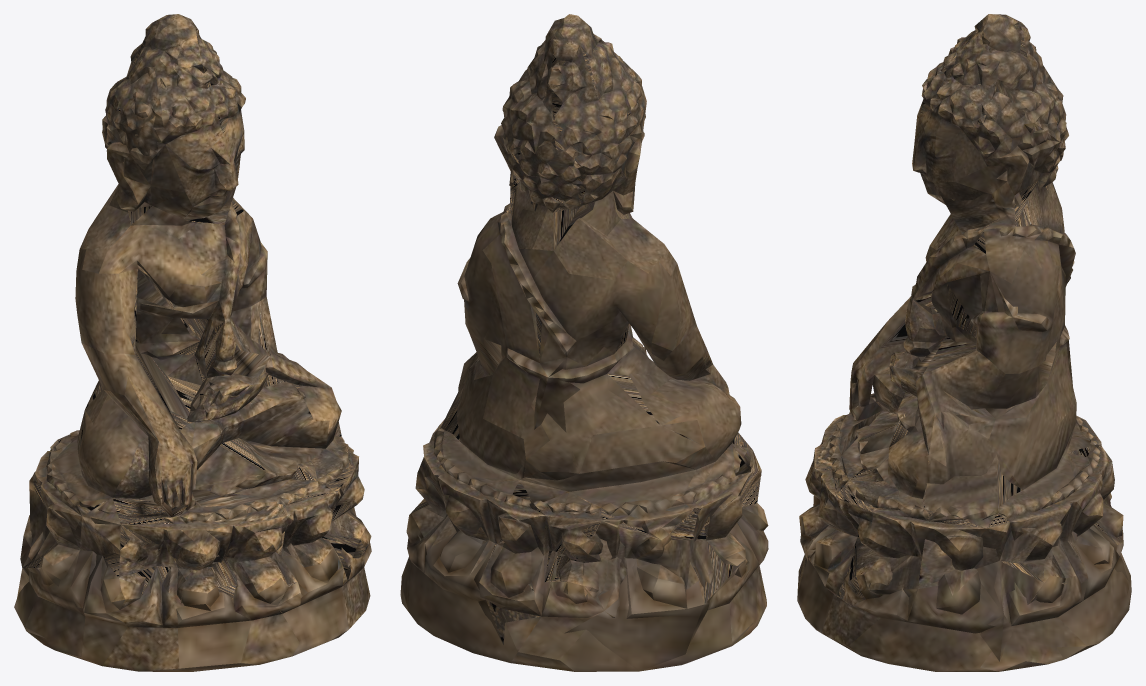
The model's file is e4kring.glb.
3 views of the same model, side by side, from view 1: azimuth 30°, elevation 25°; view 2: azimuth 150°, elevation 25°; view 3: azimuth 270°, elevation 25° (orthographic). The views are drawn at different scales.
Parts seen in each view (by area): view 1: e4kring_near, e4kring_far; view 2: e4kring_near, e4kring_far; view 3: e4kring_near, e4kring_far.
Boxes of the visible parts, x1,y1,x2,y2 form: e4kring_near: (14, 14, 371, 671); e4kring_far: (17, 27, 365, 671); e4kring_near: (400, 14, 768, 671); e4kring_far: (409, 37, 762, 671); e4kring_near: (797, 14, 1131, 671); e4kring_far: (810, 28, 1128, 661).
Size of the model in its own units: 0.0227 by 0.04 by 0.0209.
1 material, 1 textured.
